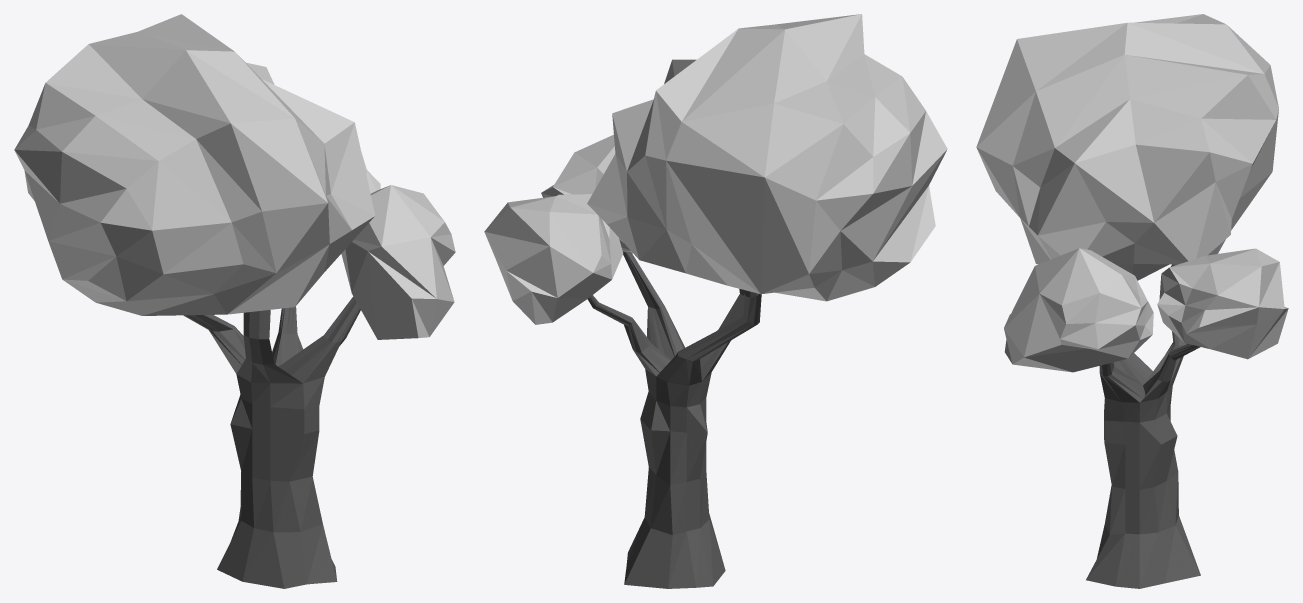
Rendered from SM_Tree_1.FBX.
3 views of the same model, side by side, from view 1: azimuth 30°, elevation 25°; view 2: azimuth 150°, elevation 25°; view 3: azimuth 270°, elevation 25° (orthographic). The views are drawn at different scales.
Visible parts, largest first — view 1: Tree; view 2: Tree; view 3: Tree.
Part boxes in pixels (<box>): Tree: <box>14,14,455,588</box>; Tree: <box>484,14,947,588</box>; Tree: <box>976,14,1288,588</box>.
Bounding box in the file's own units: 114 × 159 × 89.92.
